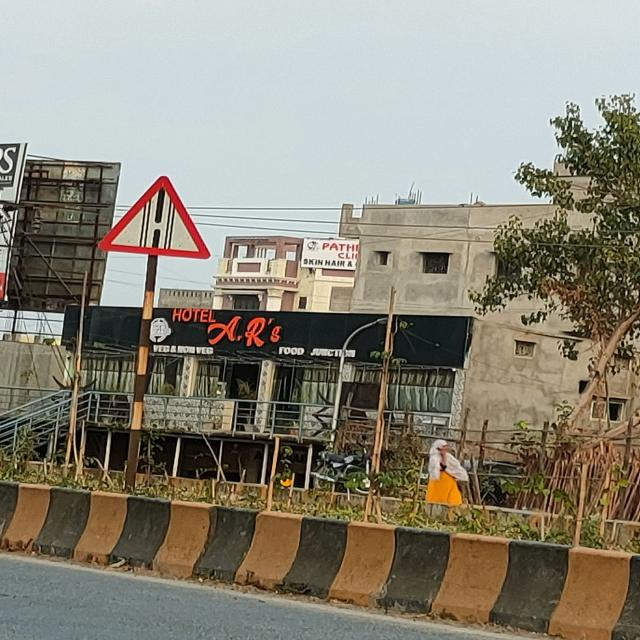ferry: (97, 177, 215, 259)
